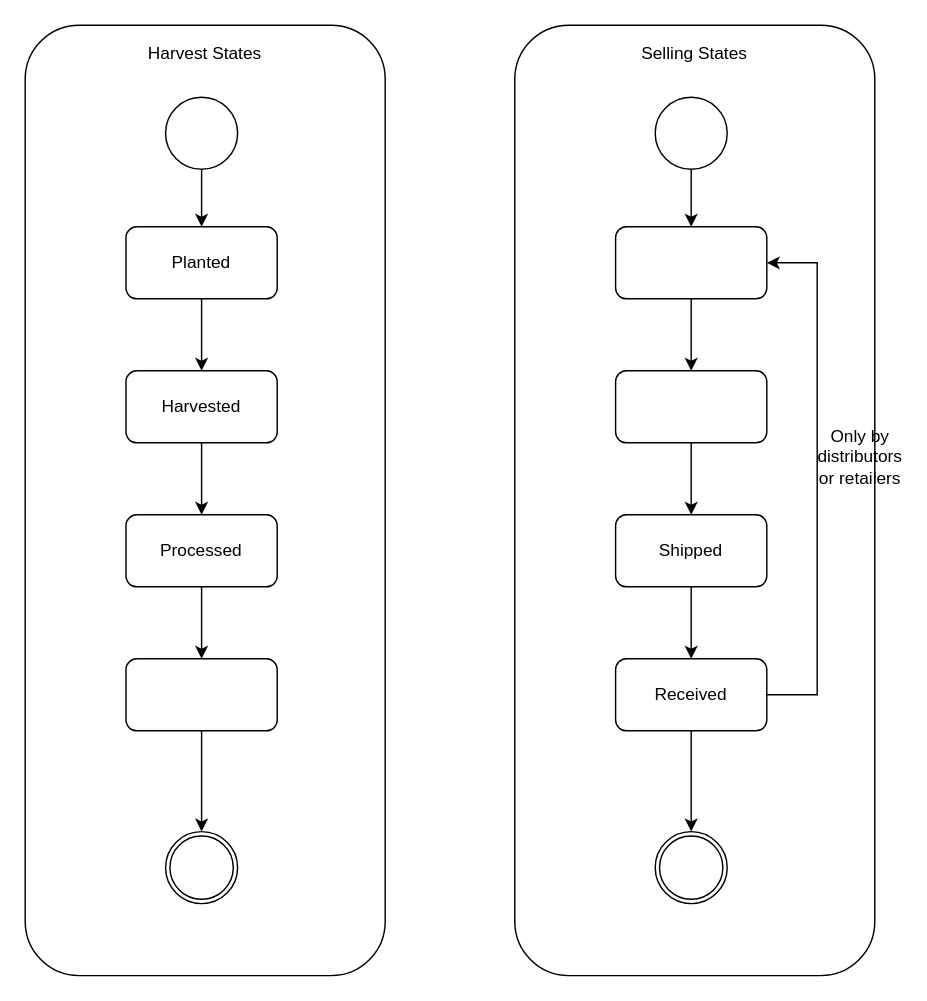
Image size: 927x1001. Some labels were removed from this diagram. Each missing label, with the centre of its shape:
For Sale: point (690, 262)
Packed: point (201, 694)
Sold: point (690, 406)
